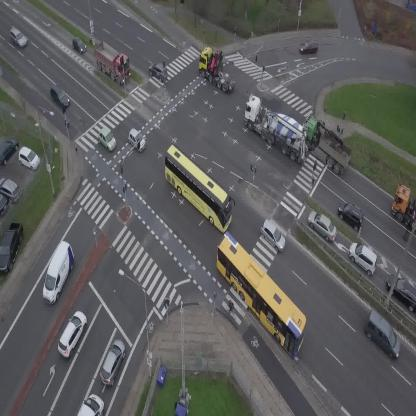bicycle: (225, 299, 236, 320)
bus: (199, 230, 320, 358), (151, 143, 245, 234)
car: (357, 309, 410, 361), (53, 308, 91, 359), (96, 337, 130, 388), (343, 239, 384, 277), (303, 207, 343, 244), (331, 197, 371, 233), (254, 218, 291, 253), (93, 126, 121, 153), (46, 83, 72, 110), (123, 127, 149, 153), (145, 59, 172, 84), (5, 25, 29, 50), (68, 34, 89, 57), (300, 39, 318, 53)
lorry: (232, 92, 322, 167), (294, 112, 359, 177), (190, 40, 248, 95), (34, 239, 81, 305), (85, 36, 139, 87), (392, 184, 416, 230), (78, 394, 104, 416)
